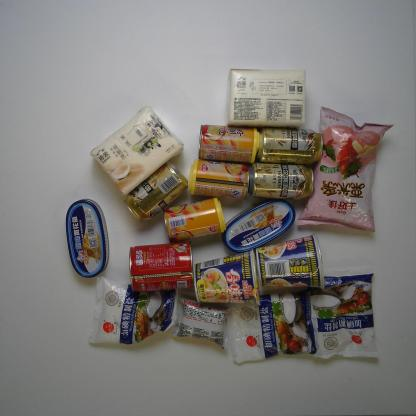Alcohol: (123, 161, 189, 222), (259, 123, 324, 165), (250, 160, 316, 200)
Canned Food: (221, 199, 296, 252), (65, 198, 110, 280), (127, 241, 195, 294), (163, 197, 228, 242), (187, 157, 253, 200), (196, 124, 260, 164)
Dessert: (172, 294, 226, 350)
Instant Noodles: (192, 248, 262, 309), (255, 234, 324, 294)
Puffed Food: (297, 104, 395, 235)
Seasoner: (306, 266, 379, 362), (231, 285, 318, 363), (88, 276, 177, 345)
Tissue: (89, 104, 184, 198), (223, 67, 308, 130)
